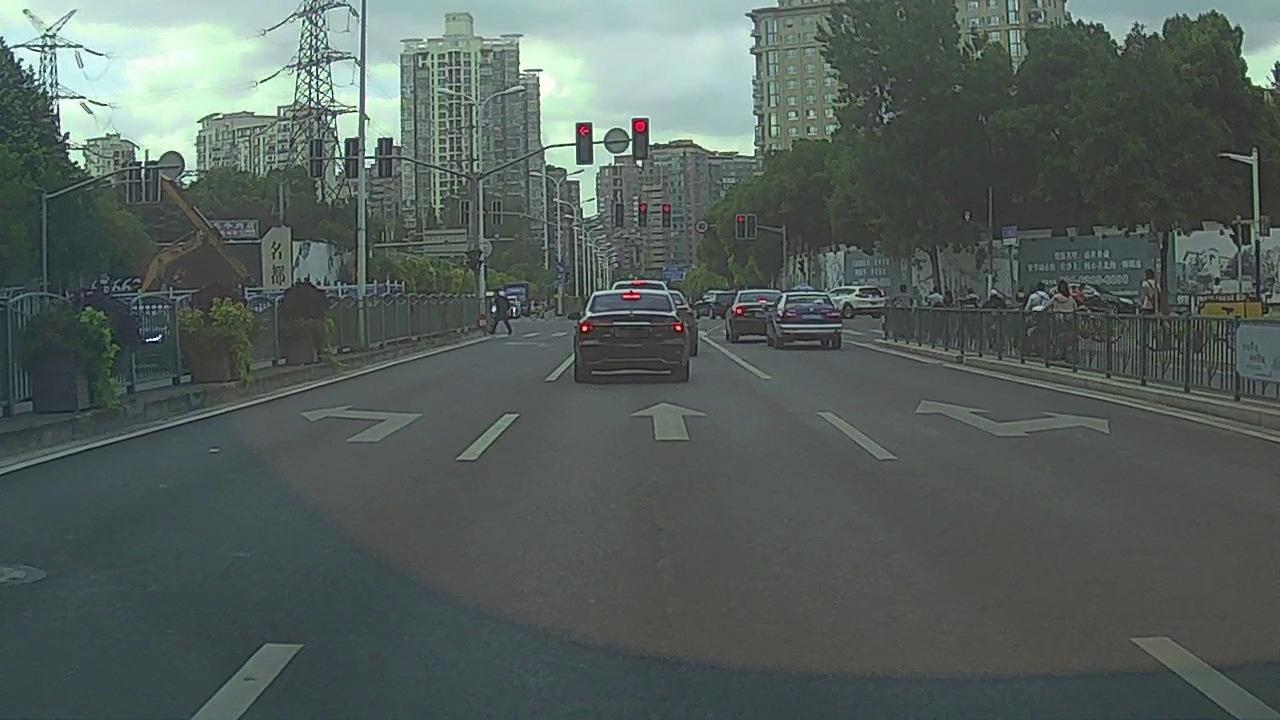traffic_light: (631, 117, 648, 159), (576, 123, 593, 164), (746, 214, 756, 238), (662, 202, 670, 227), (638, 203, 646, 227), (615, 204, 623, 227), (737, 215, 744, 238)
